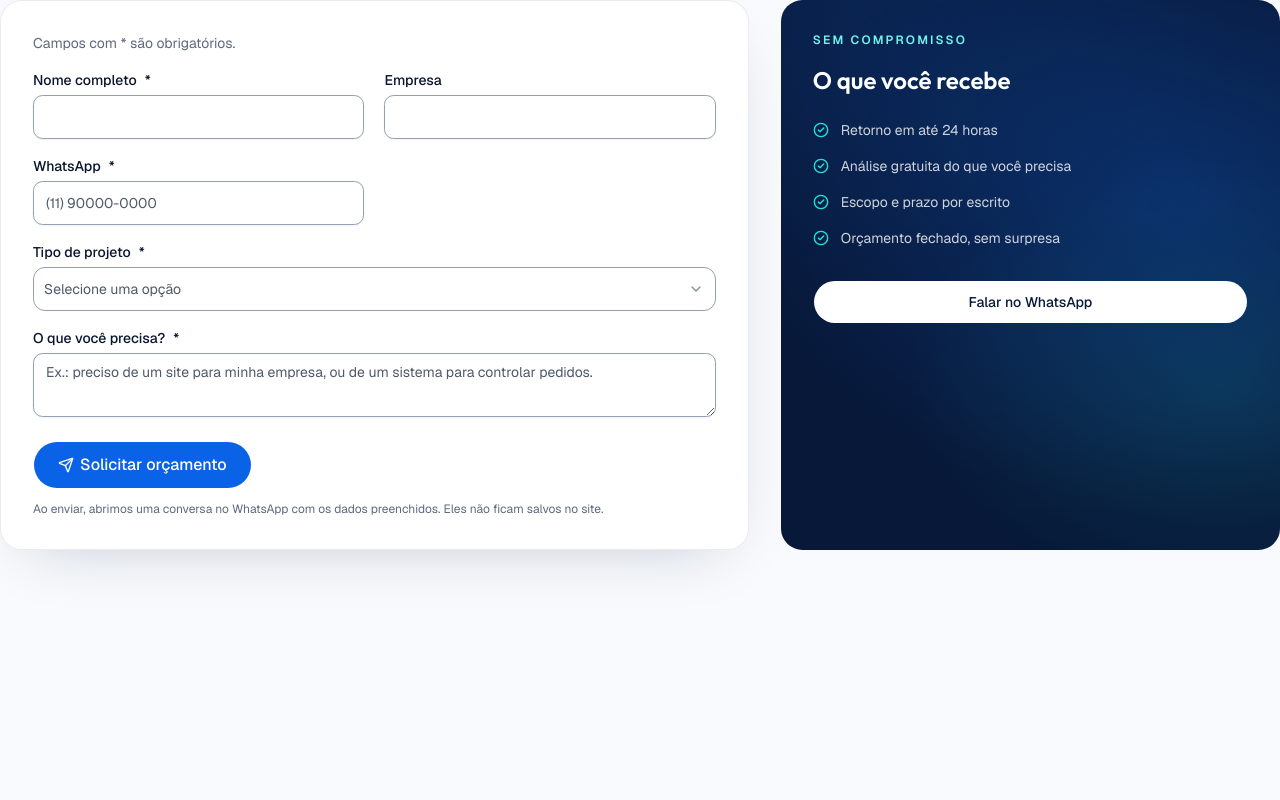
Test: ContactForm › bloqueia envio vazio, marca os obrigatórios, lista o que falta e foca o primeiro
What coordinates should you click on to do the following:
click the button "Solicitar orçamento"
I would click on:
 (142, 465)
Its box is [33,441,252,489].
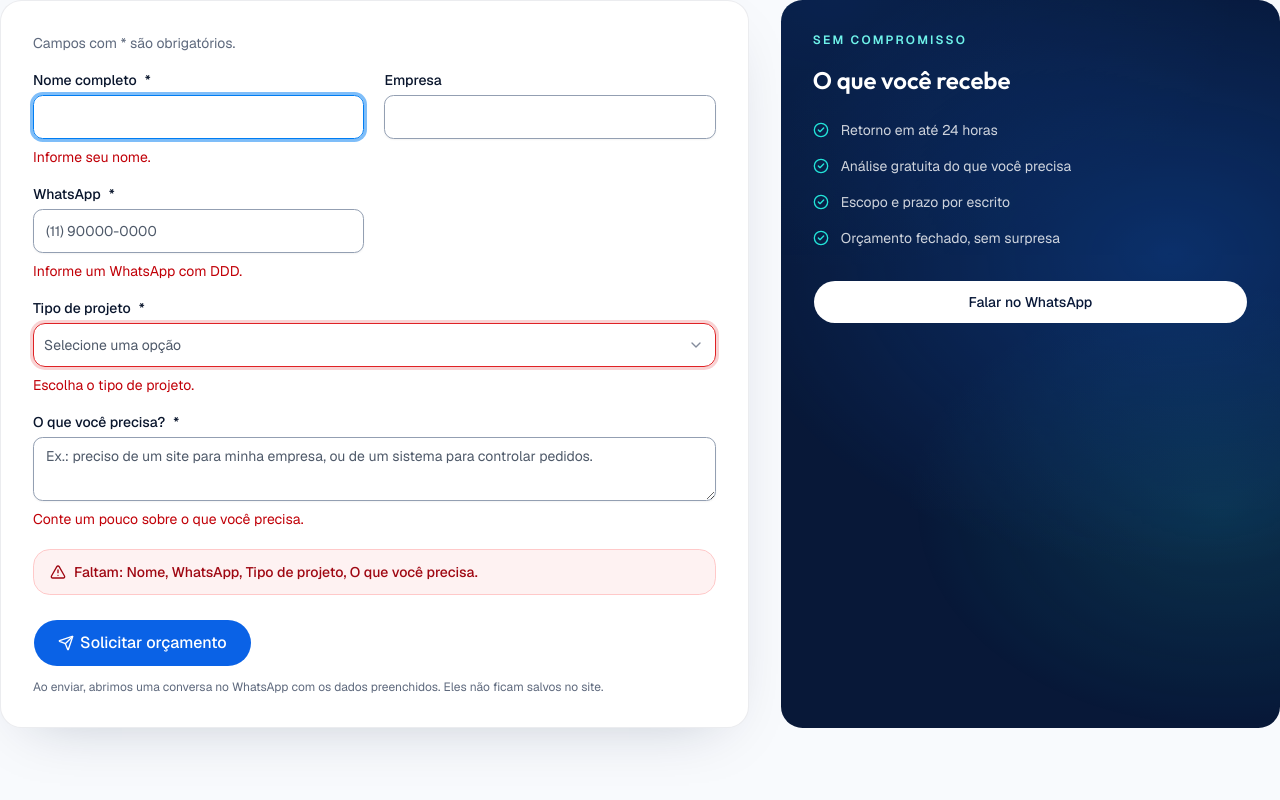
Expected: the message reads "Faltam: Nome, WhatsApp, Tipo de projeto, O que você precisa.", [33,549,716,595]
